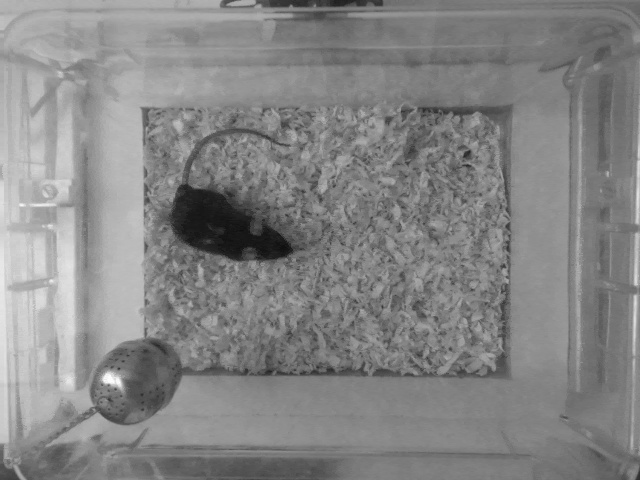mice: (167, 127, 297, 263)
